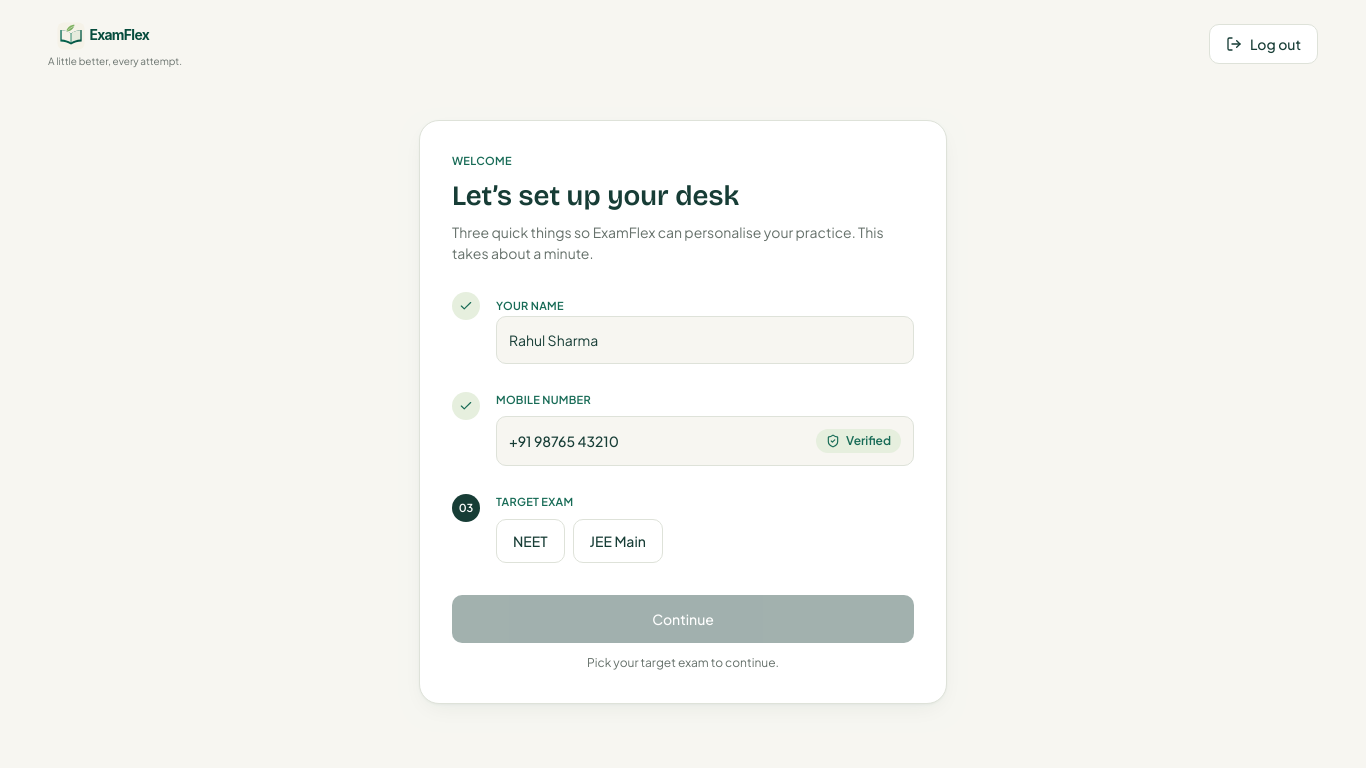
Scenario: OnboardingScreen › finishing › cannot be submitted twice while saving
Click the radio button labelled "NEET".
click(530, 541)  # box [496,519,565,563]
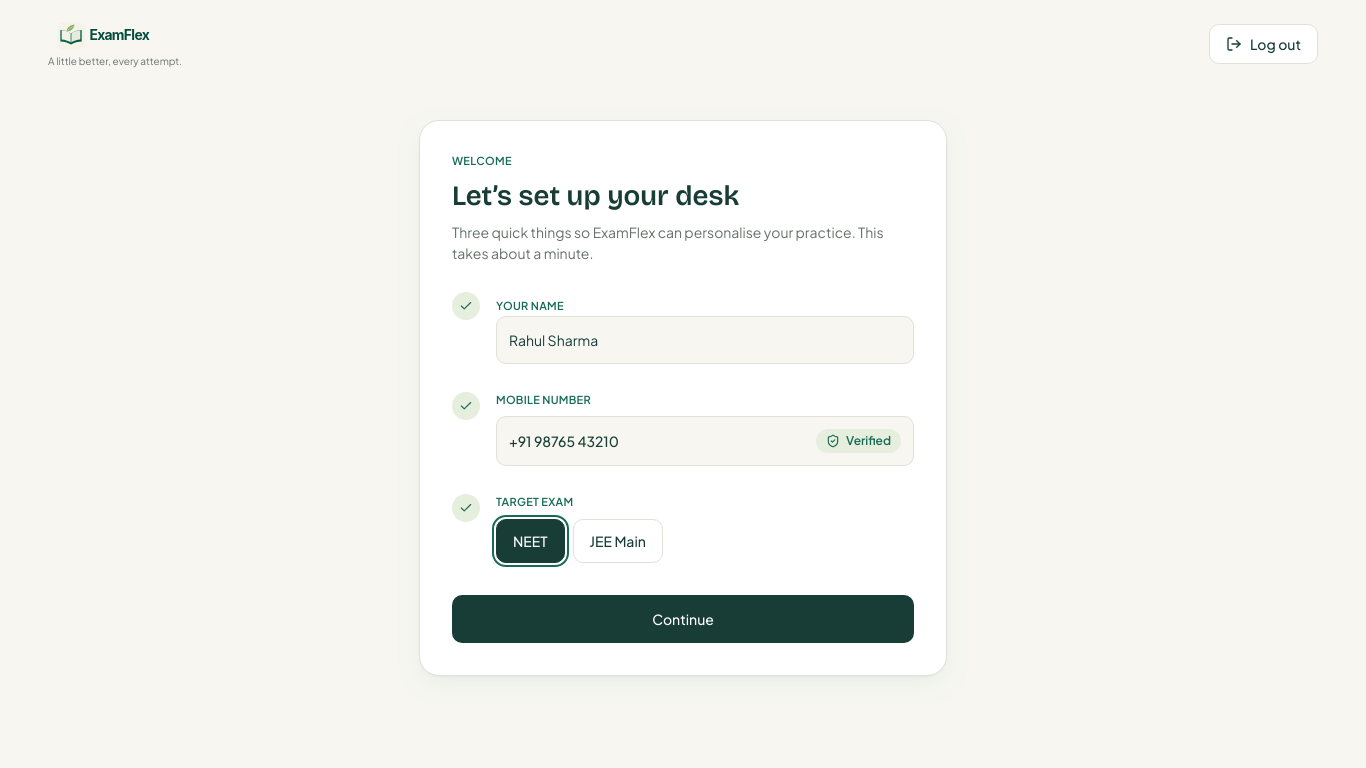
Click the button "Continue".
click(683, 619)  # box [452,595,914,643]
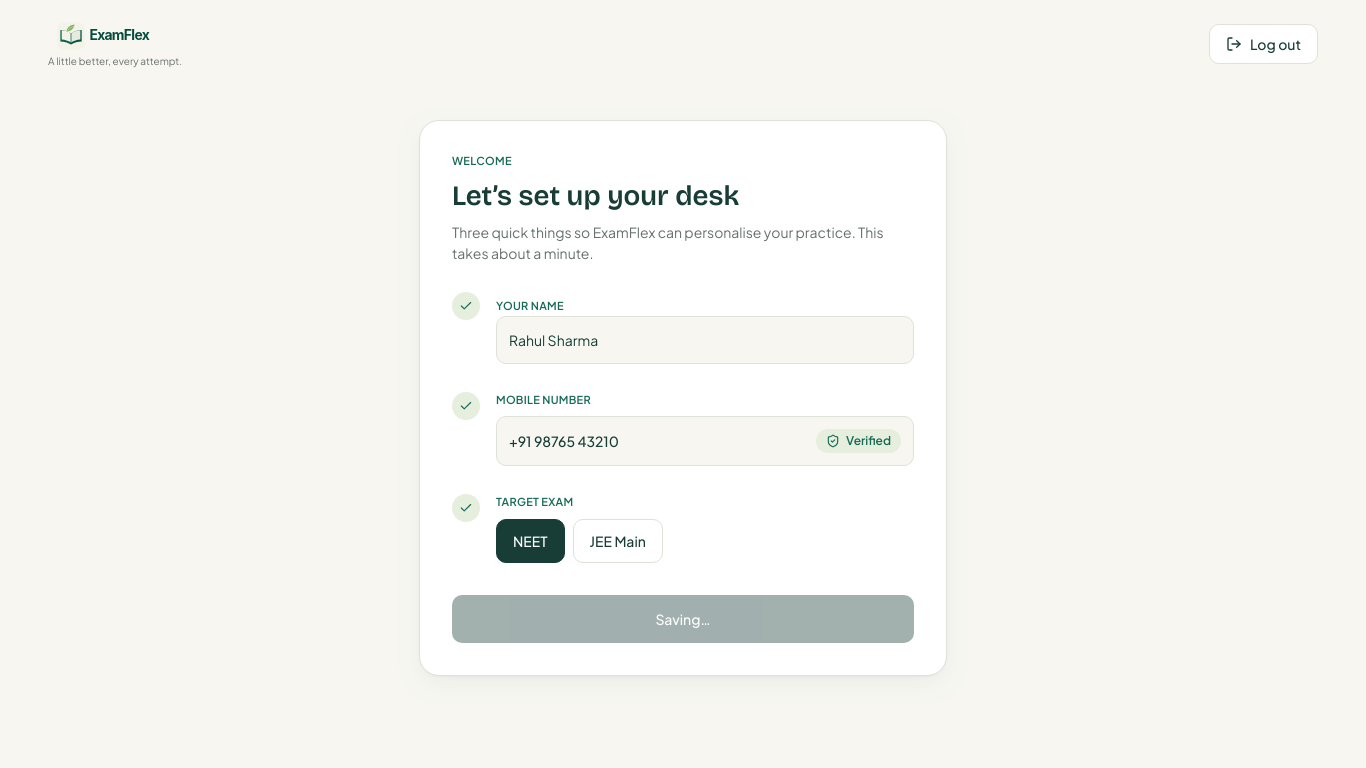
expect the button "Saving…" is disabled: met, box [452,595,914,643]
